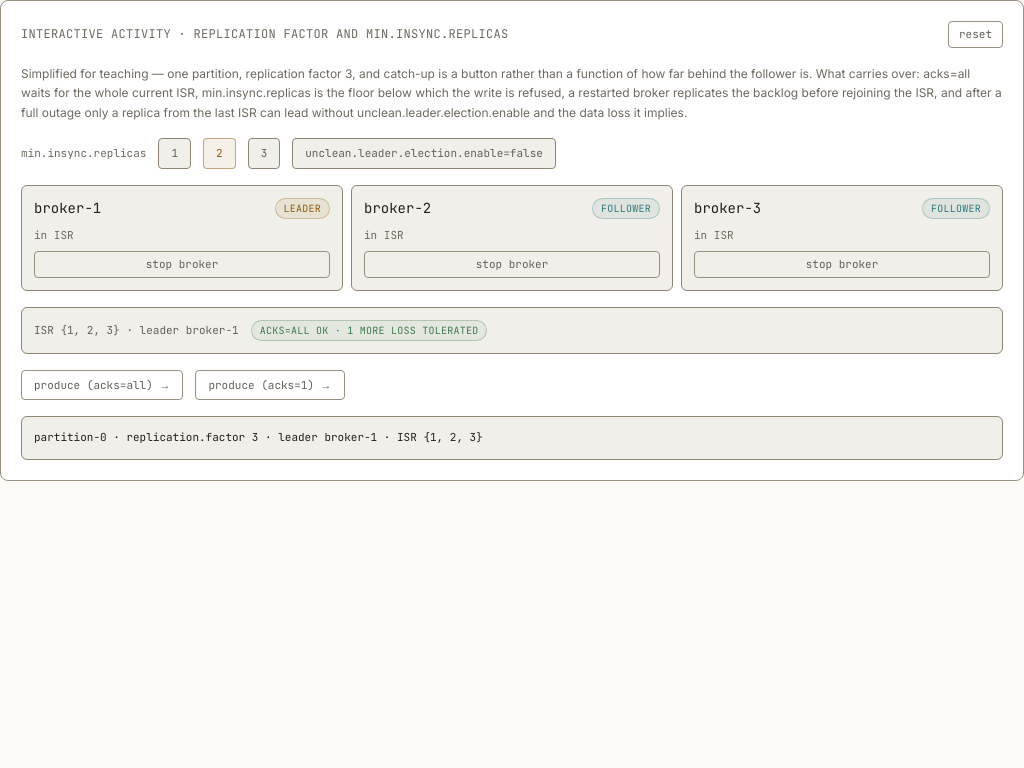
Test case: ReplicationFloorDemo › after a full outage a last-ISR replica recovers and leads cleanly
This screenshot has width=1024, height=768.
Step 1. Click the 1st button "stop broker" → [182, 264], box [34,251,330,278]
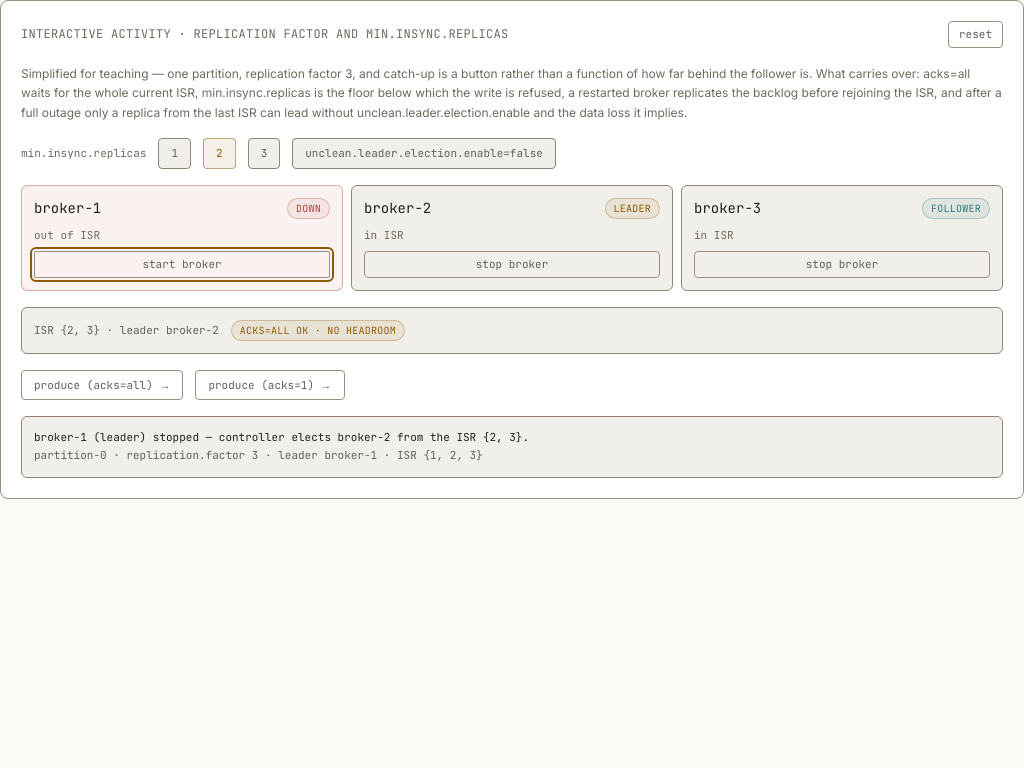
Step 2. Click the 1st button "stop broker" → [512, 264], box [364,251,660,278]
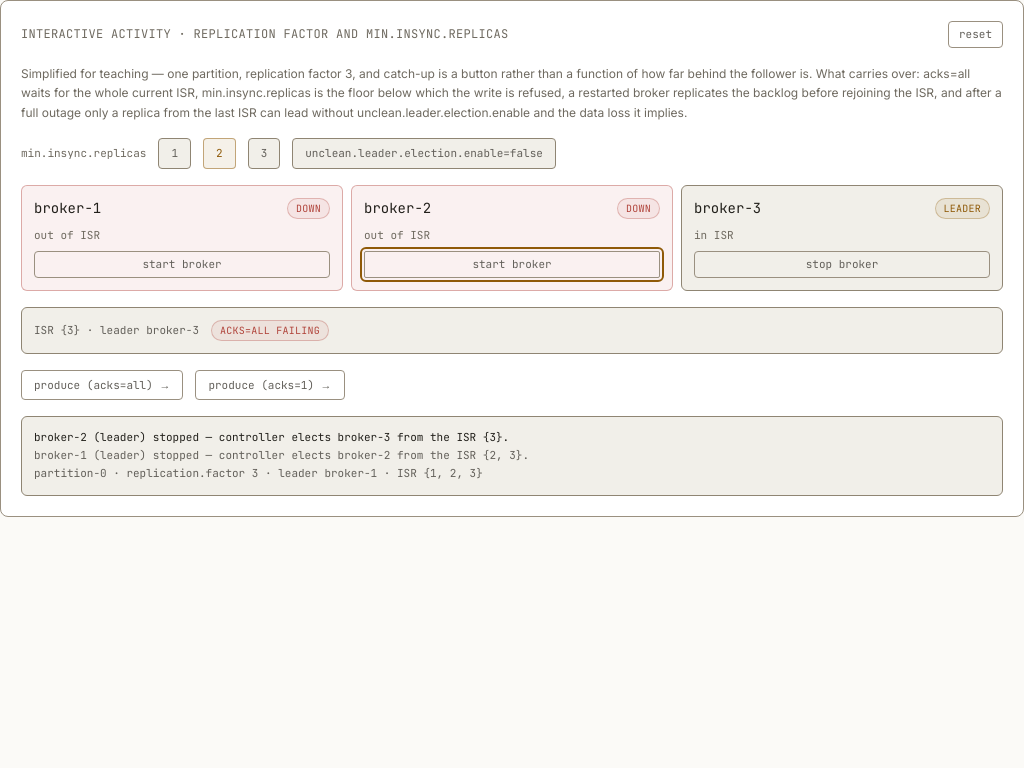
Step 3. Click the button "stop broker" → [842, 264], box [694,251,990,278]
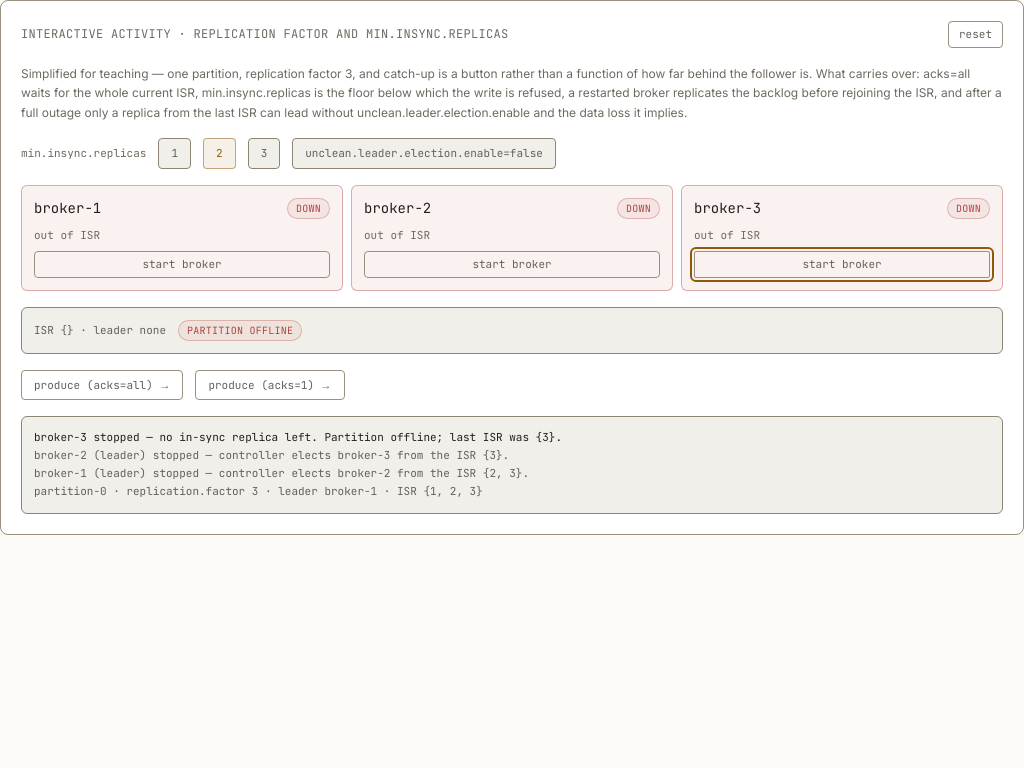
Check: the text with test id "isr-summary" reads "ISR {} · leader none", box [34,322,166,338]
Step 4. Click the 3rd button "start broker" → [842, 264], box [694,251,990,278]
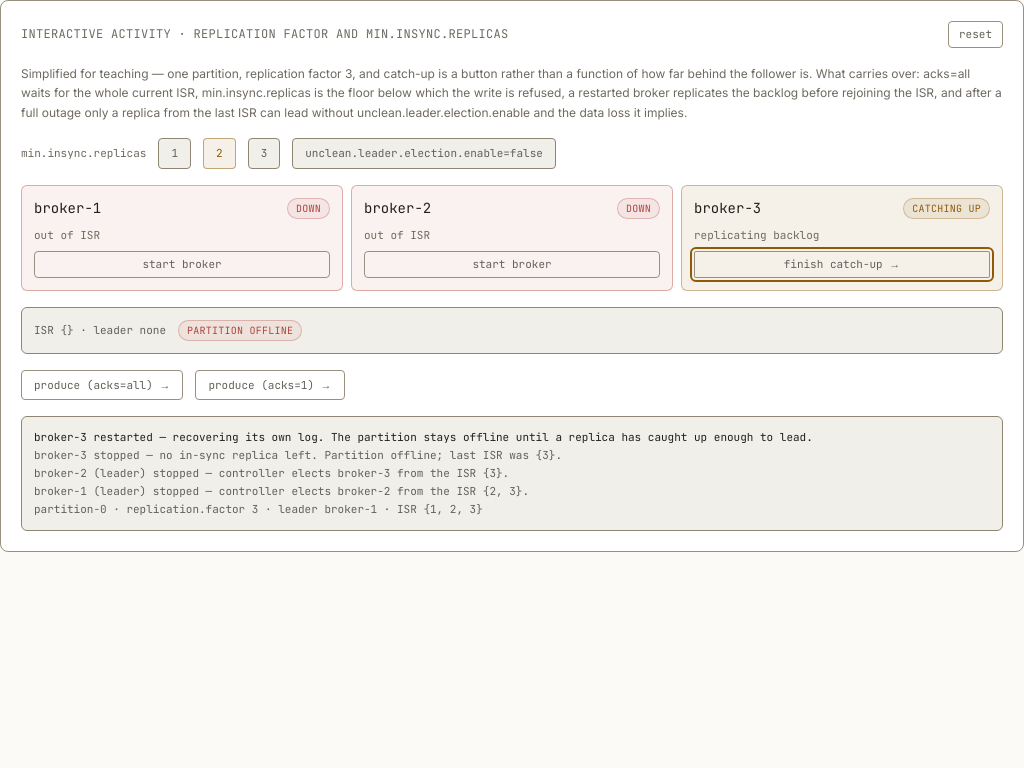
Check: the text with test id "isr-summary" reads "ISR {} · leader none", box [34,322,166,338]
Step 5. Click the button "finish catch-up →" → [842, 264], box [694,251,990,278]
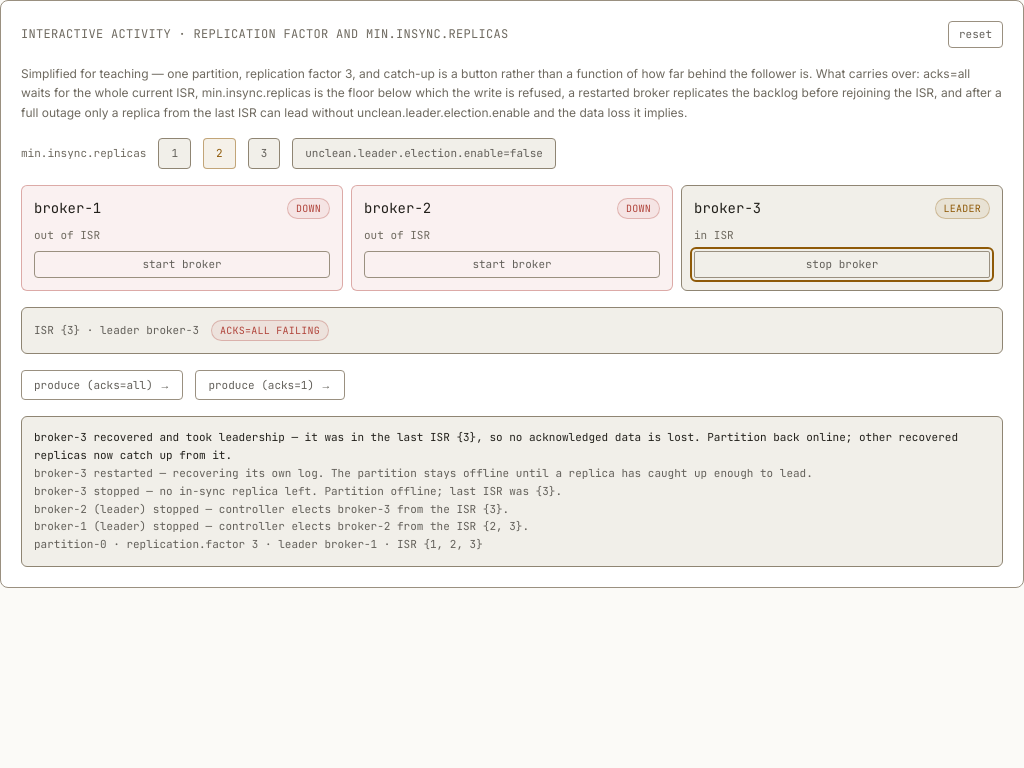
Check: the text with test id "isr-summary" reads "ISR {3} · leader broker-3", box [34,322,199,338]
